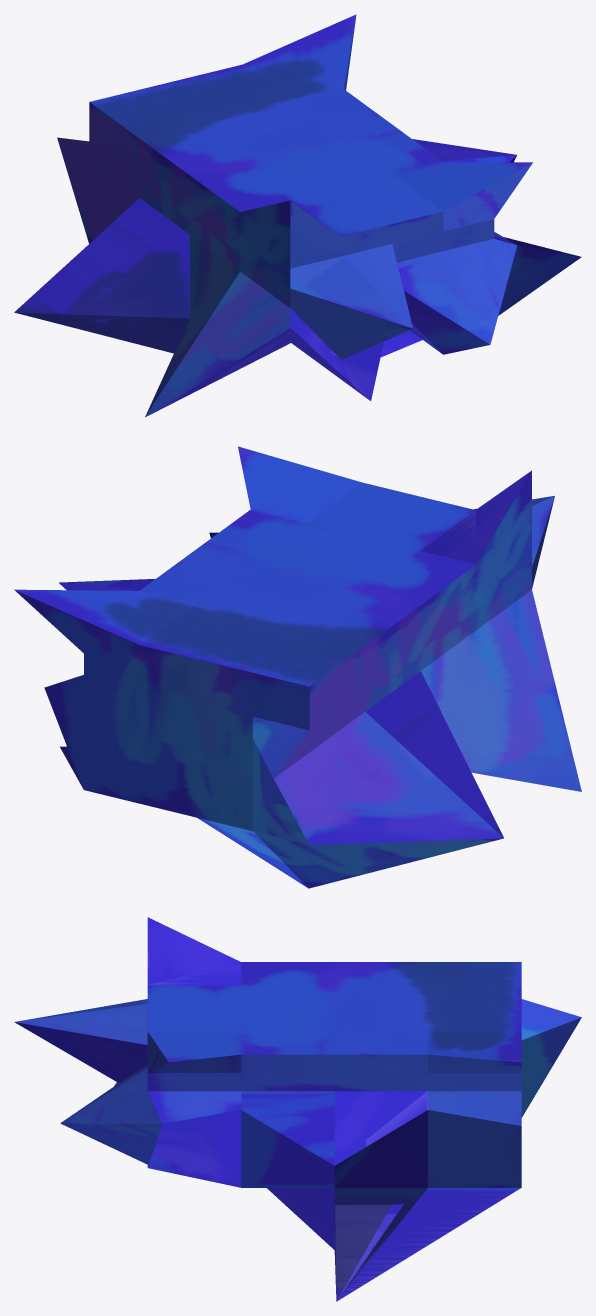
The model's file is moving platform.fbx.
3 renders of one model, top to bottom at view 1: azimuth 30°, elevation 25°; view 2: azimuth 150°, elevation 25°; view 3: azimuth 270°, elevation 25°, orthographic. The views are drawn at different scales.
Parts seen in each view (by area): view 1: Cube; view 2: Cube; view 3: Cube.
Part boxes in pixels (x1,y1,x2,y2): Cube: [14, 14, 581, 417]; Cube: [14, 446, 581, 888]; Cube: [14, 917, 581, 1301].
Bounding box in the file's own units: 11.99 × 7.17 × 13.99.
Materials: 1 (1 with a texture image).
